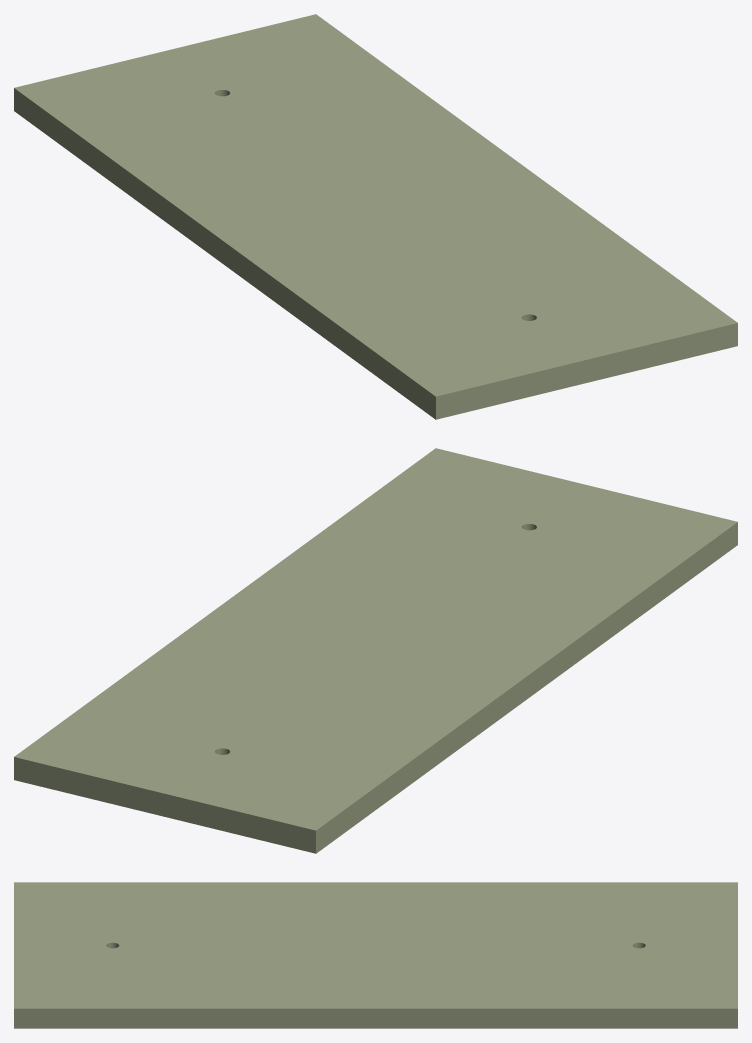
The model's file is esp2023_p35_cover_panel.glb.
3 views of the same model, one above another, from view 1: azimuth 30°, elevation 25°; view 2: azimuth 150°, elevation 25°; view 3: azimuth 270°, elevation 25° (orthographic). The views are drawn at different scales.
Visible parts, largest first — view 1: chamber cover panel; view 2: chamber cover panel; view 3: chamber cover panel.
Part boxes in pixels (x1,y1,x2,y2): chamber cover panel: [14, 14, 737, 419]; chamber cover panel: [14, 448, 737, 853]; chamber cover panel: [14, 882, 737, 1028].
Size of the model in its own units: 682 by 50 by 1650.
